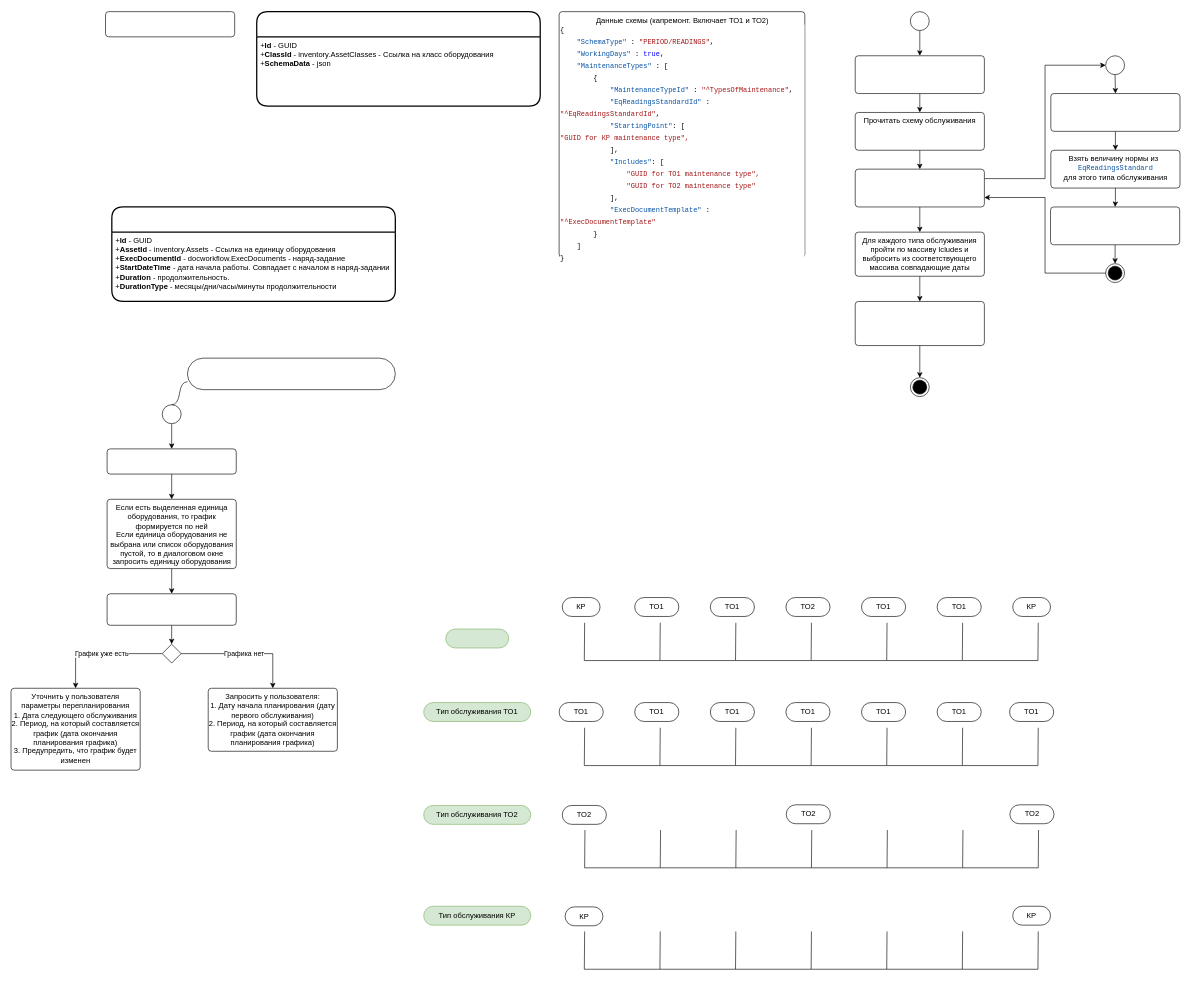
Some shapes in this 1191 by 981 pixel diagram are drawn without their labels. Each missing label, with the box of its shape:
MaintenanceSchedules Графики обслуживания: (111, 206, 396, 302)
Выполнить поиск записей графика по единице оборудования: (106, 593, 236, 625)
Для каждого типа обслуживания составить массив дат обслуживания: (855, 169, 984, 207)
Класс оборудования: (105, 11, 235, 37)
Определить дату последнего обслуживания используя массив StartingPoint: (1050, 93, 1180, 131)
Пользователь нажимает кнопку "Сформировать график для единицы оборудования": (855, 55, 984, 94)
Пользователь нажимает кнопку "Сформировать график": (106, 448, 236, 474)
Построить массив-график дат обслуживания Только календарные дни (пока...): (1050, 206, 1180, 245)
Результат: (445, 628, 509, 648)
Сформировать записи в журнале графиков по оборудованию: (855, 301, 984, 346)
Схема обслуживания: (256, 11, 541, 106)
Формирование графика по единице оборудования Диалоговый режим: (187, 358, 395, 390)
